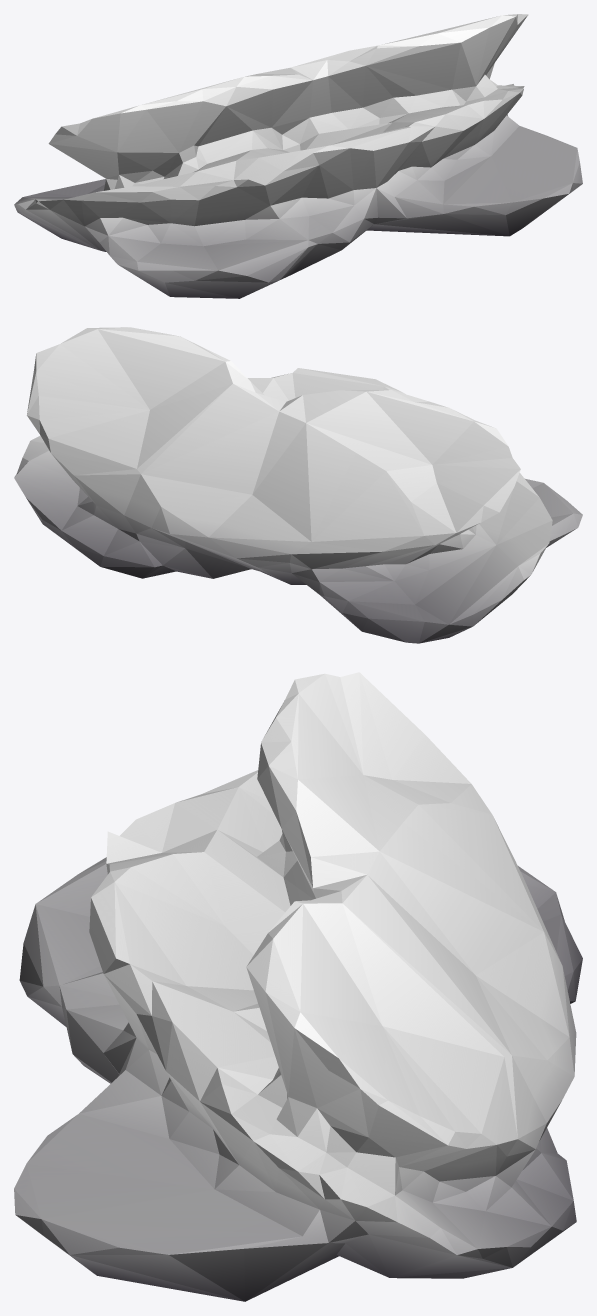
Rendered from SM_Coral_32.fbx.
3 renders of one model, top to bottom at view 1: azimuth 30°, elevation 25°; view 2: azimuth 150°, elevation 25°; view 3: azimuth 270°, elevation 25°, orthographic. The views are drawn at different scales.
Parts seen in each view (by area): view 1: Coral_32; view 2: Coral_32; view 3: Coral_32.
Boxes of the visible parts, x1,y1,x2,y2 form: Coral_32: (14, 14, 582, 298); Coral_32: (14, 327, 582, 643); Coral_32: (14, 672, 582, 1301).
Size of the model in its own units: 381 by 133 by 210.
